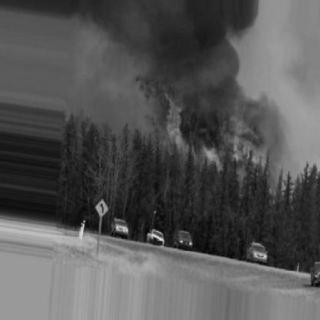Fire: (136, 76, 268, 170)
Smoke: (67, 3, 237, 73)
